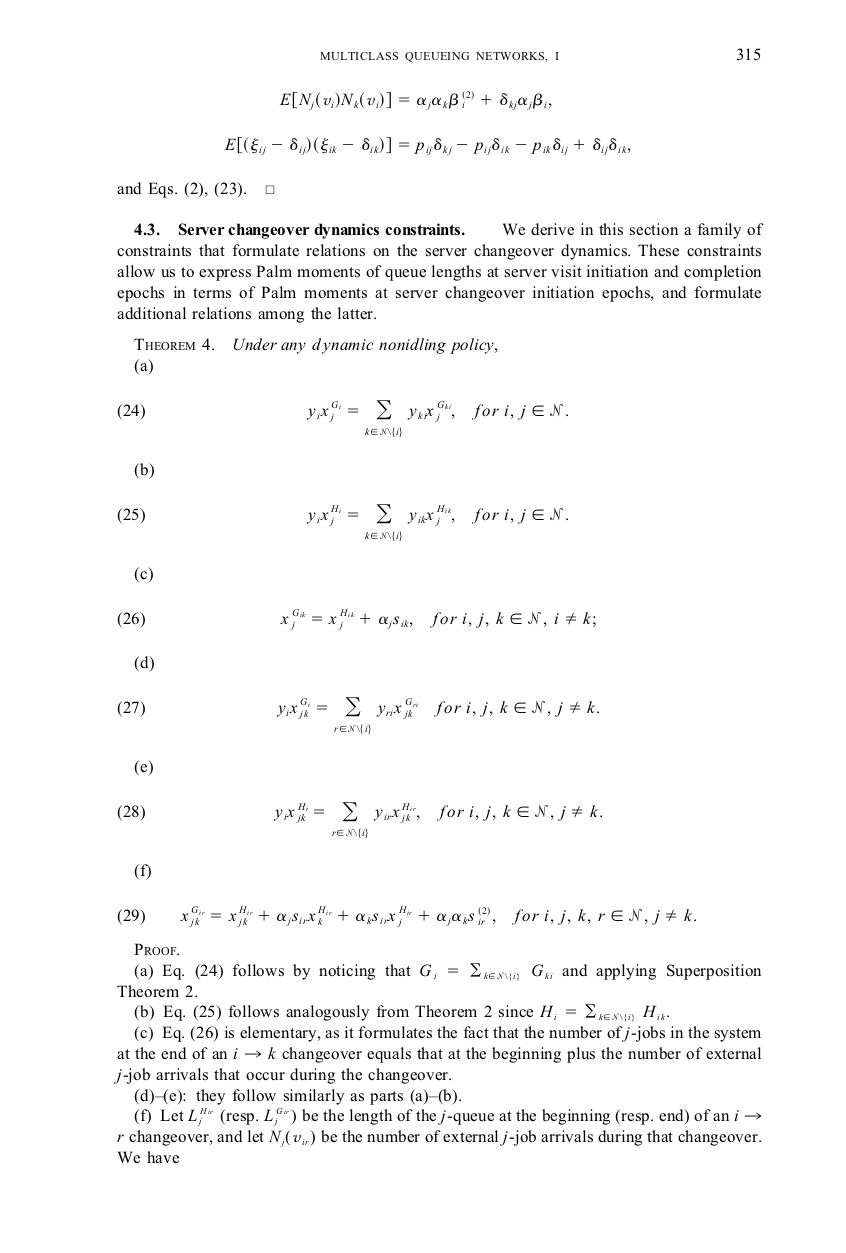formula: (117, 697, 598, 733), (117, 802, 601, 837), (117, 400, 567, 436), (117, 504, 567, 540), (117, 905, 695, 927), (117, 608, 595, 630), (224, 135, 630, 155), (279, 89, 551, 110)
